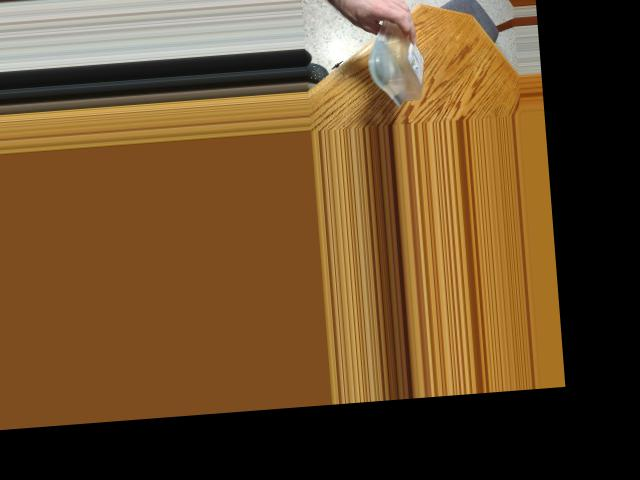cheese: (368, 1, 429, 107)
